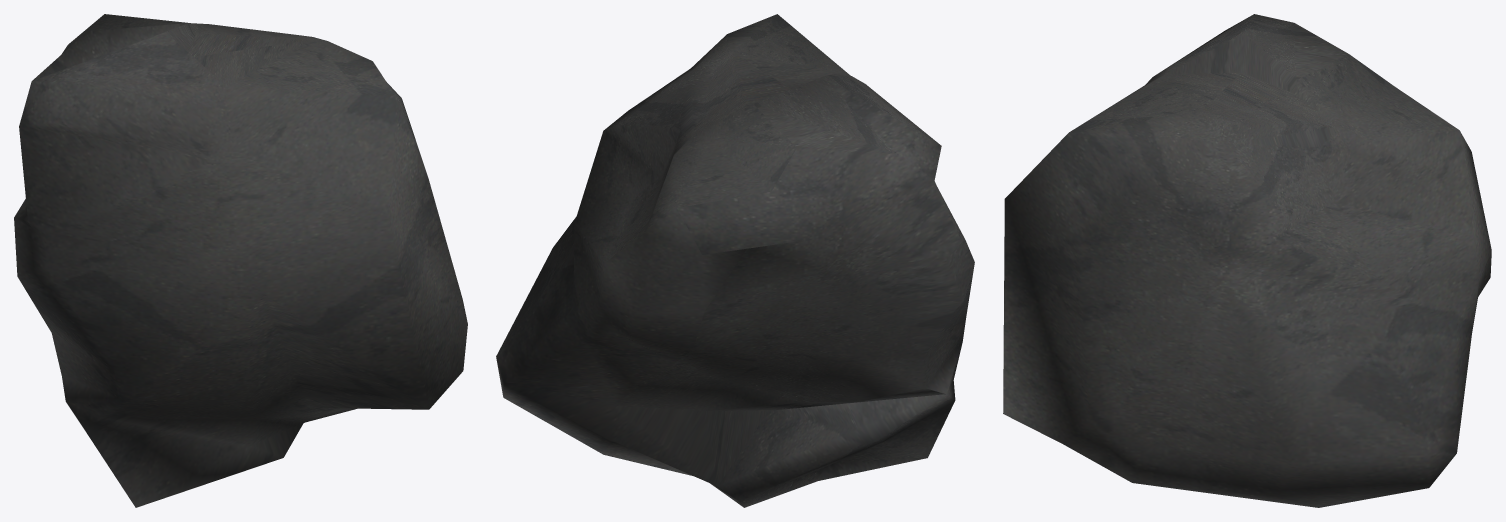
File: misc_rock_large_1.dae
3 renders of one model, left to right at view 1: azimuth 30°, elevation 25°; view 2: azimuth 150°, elevation 25°; view 3: azimuth 270°, elevation 25°, orthographic. The views are drawn at different scales.
Visible parts, largest first — view 1: rock_large1; view 2: rock_large1; view 3: rock_large1.
Part boxes in pixels (box(x1,y1,x2,y2)): rock_large1: box(14, 14, 467, 507); rock_large1: box(496, 14, 974, 507); rock_large1: box(1003, 14, 1491, 507).
Size of what is drawn, in the model's own units: 1.25 by 1.2 by 1.24.
